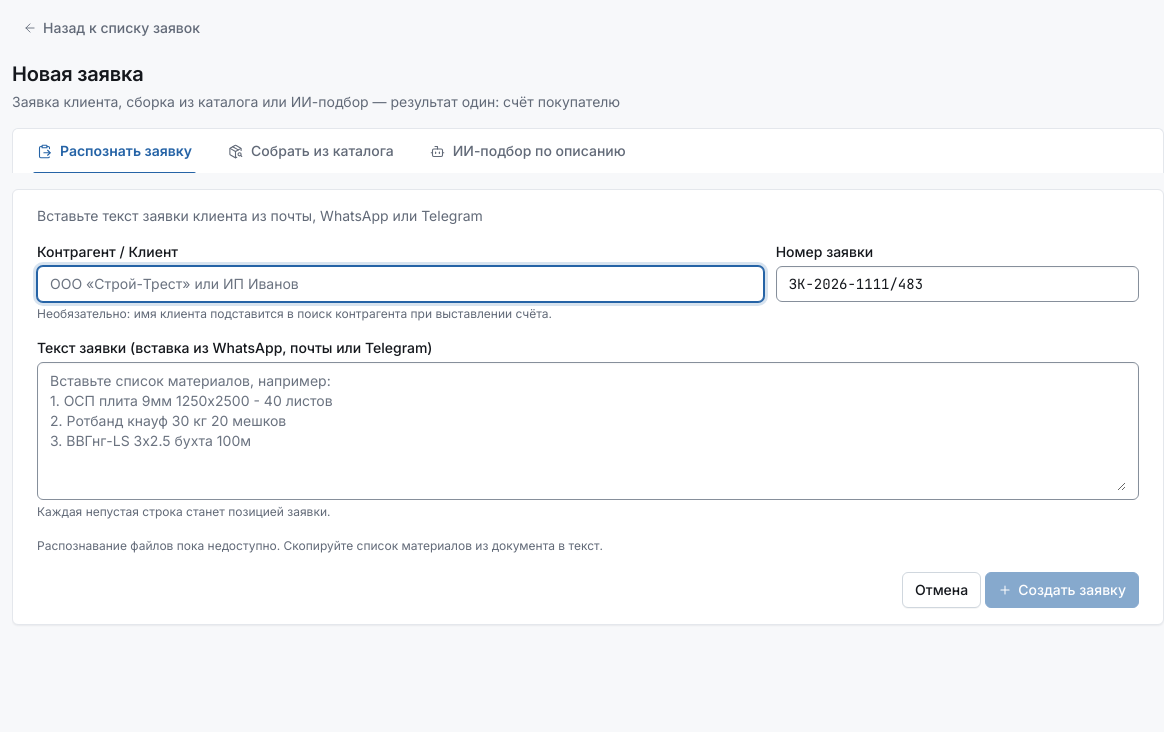
Страница входа: создание документа › не добавляет материал в корзину дважды
Click the tab "Собрать из каталога". click: x=311, y=151
box: [212,129,410,173]
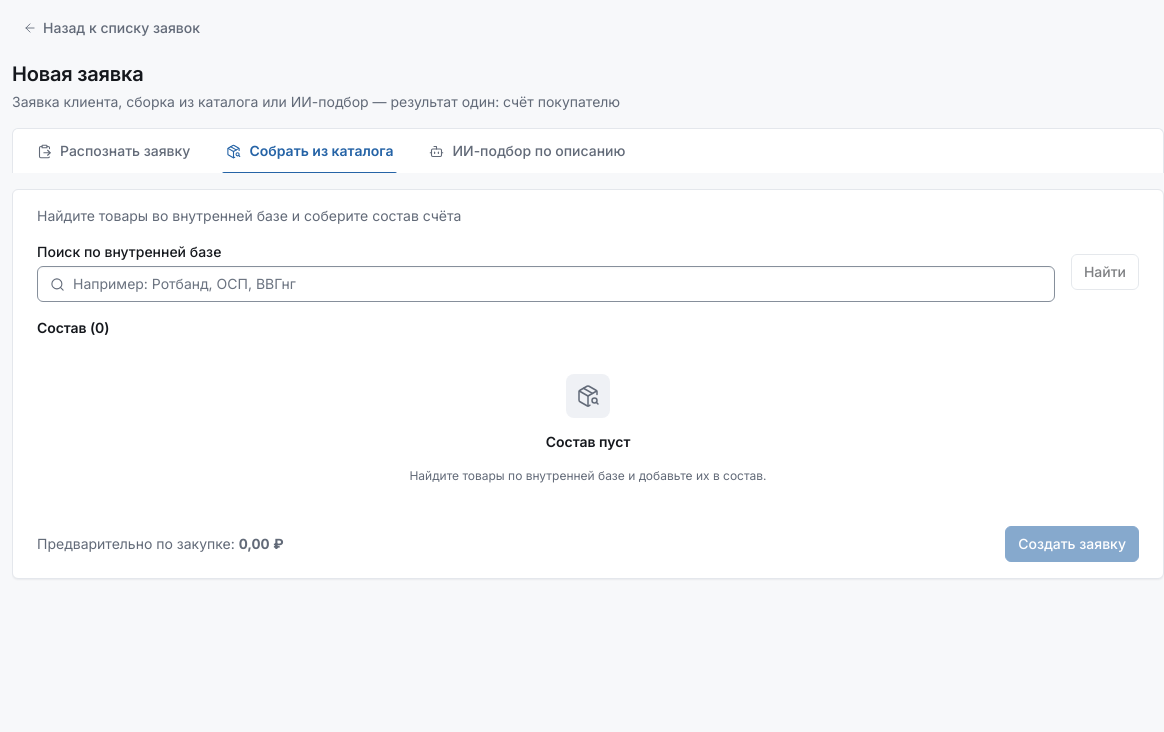
Type "Ротбанд" into the field labelled "Поиск по внутренней базе". click: x=557, y=284
box: [73,274,1042,294]
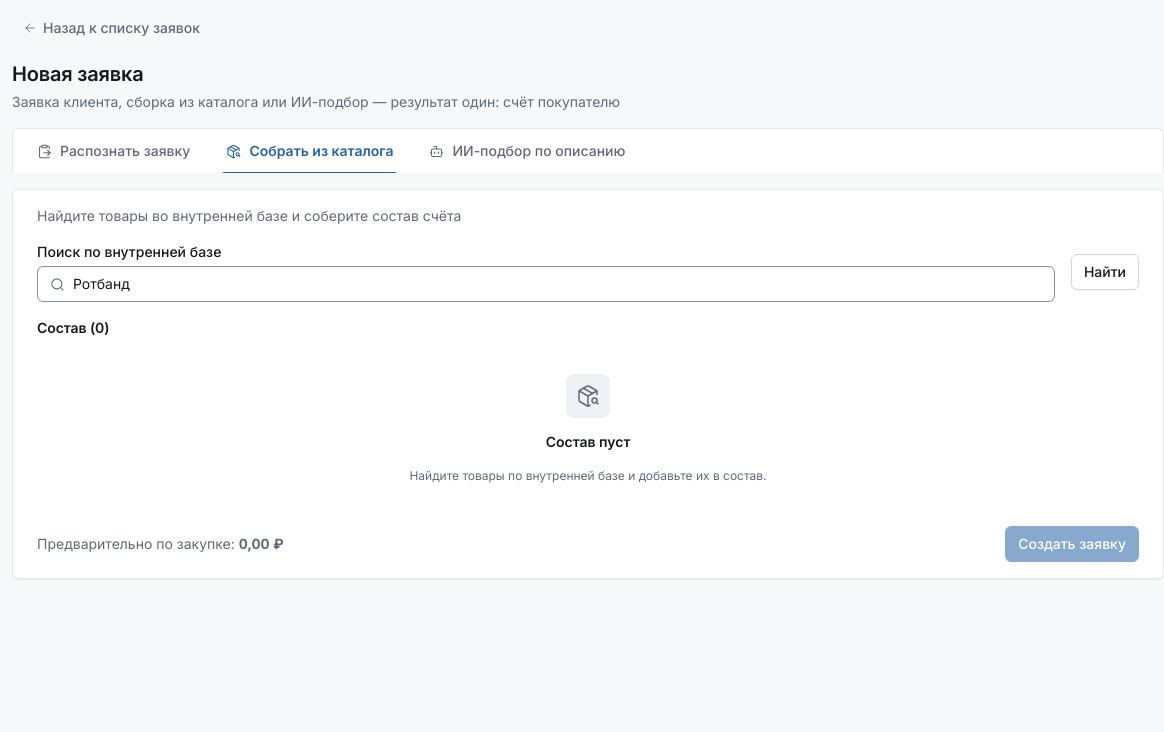
Click the button "Найти". click: x=1105, y=272
box: [1071,254,1139,290]
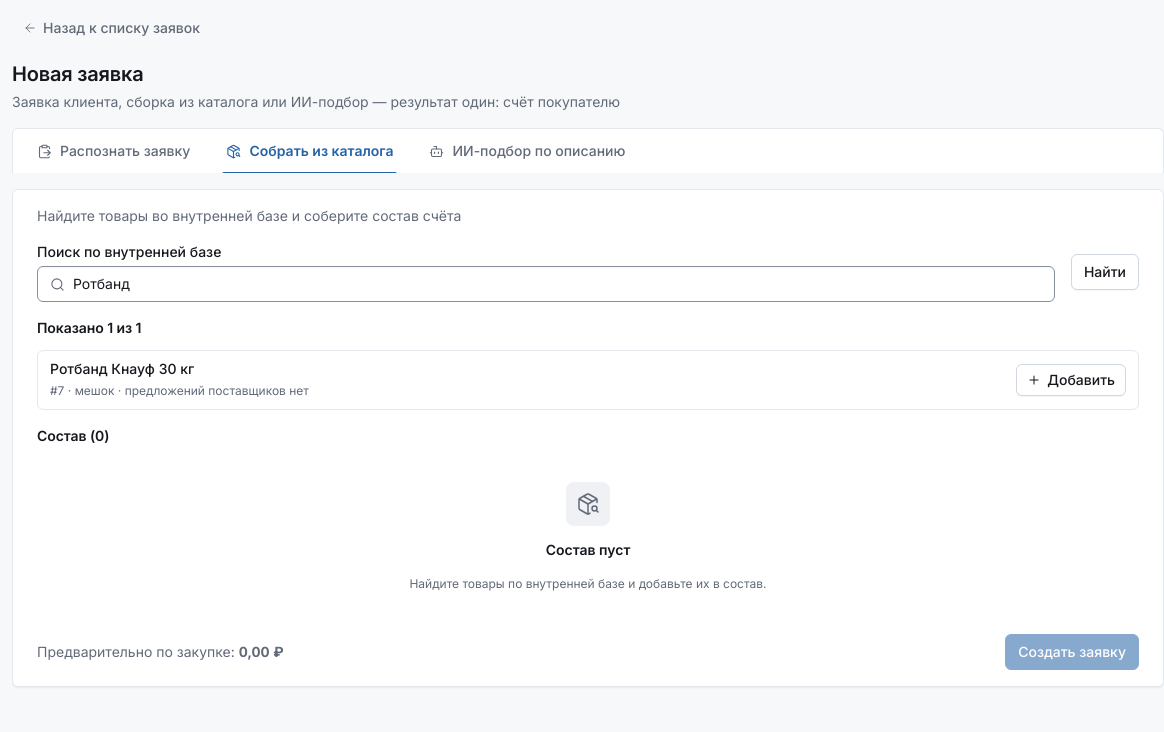
Click the button with aria-label "Добавить Ротбанд Кнауф 30 кг". click: x=1071, y=380
box: [1016,364,1126,396]
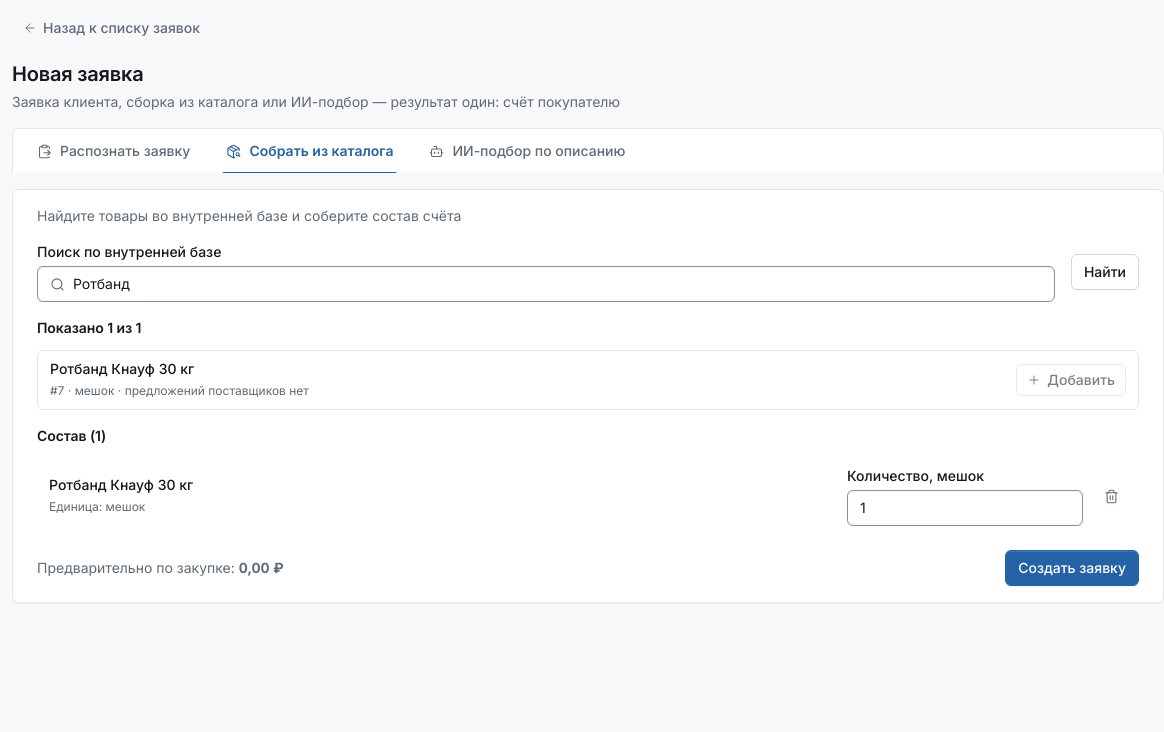
expect the button with aria-label "Добавить Ротбанд Кнауф 30 кг" is disabled: met, box [1016,364,1126,396]
expect the heading "Состав (1)" is shown: met, box [37,427,106,444]
